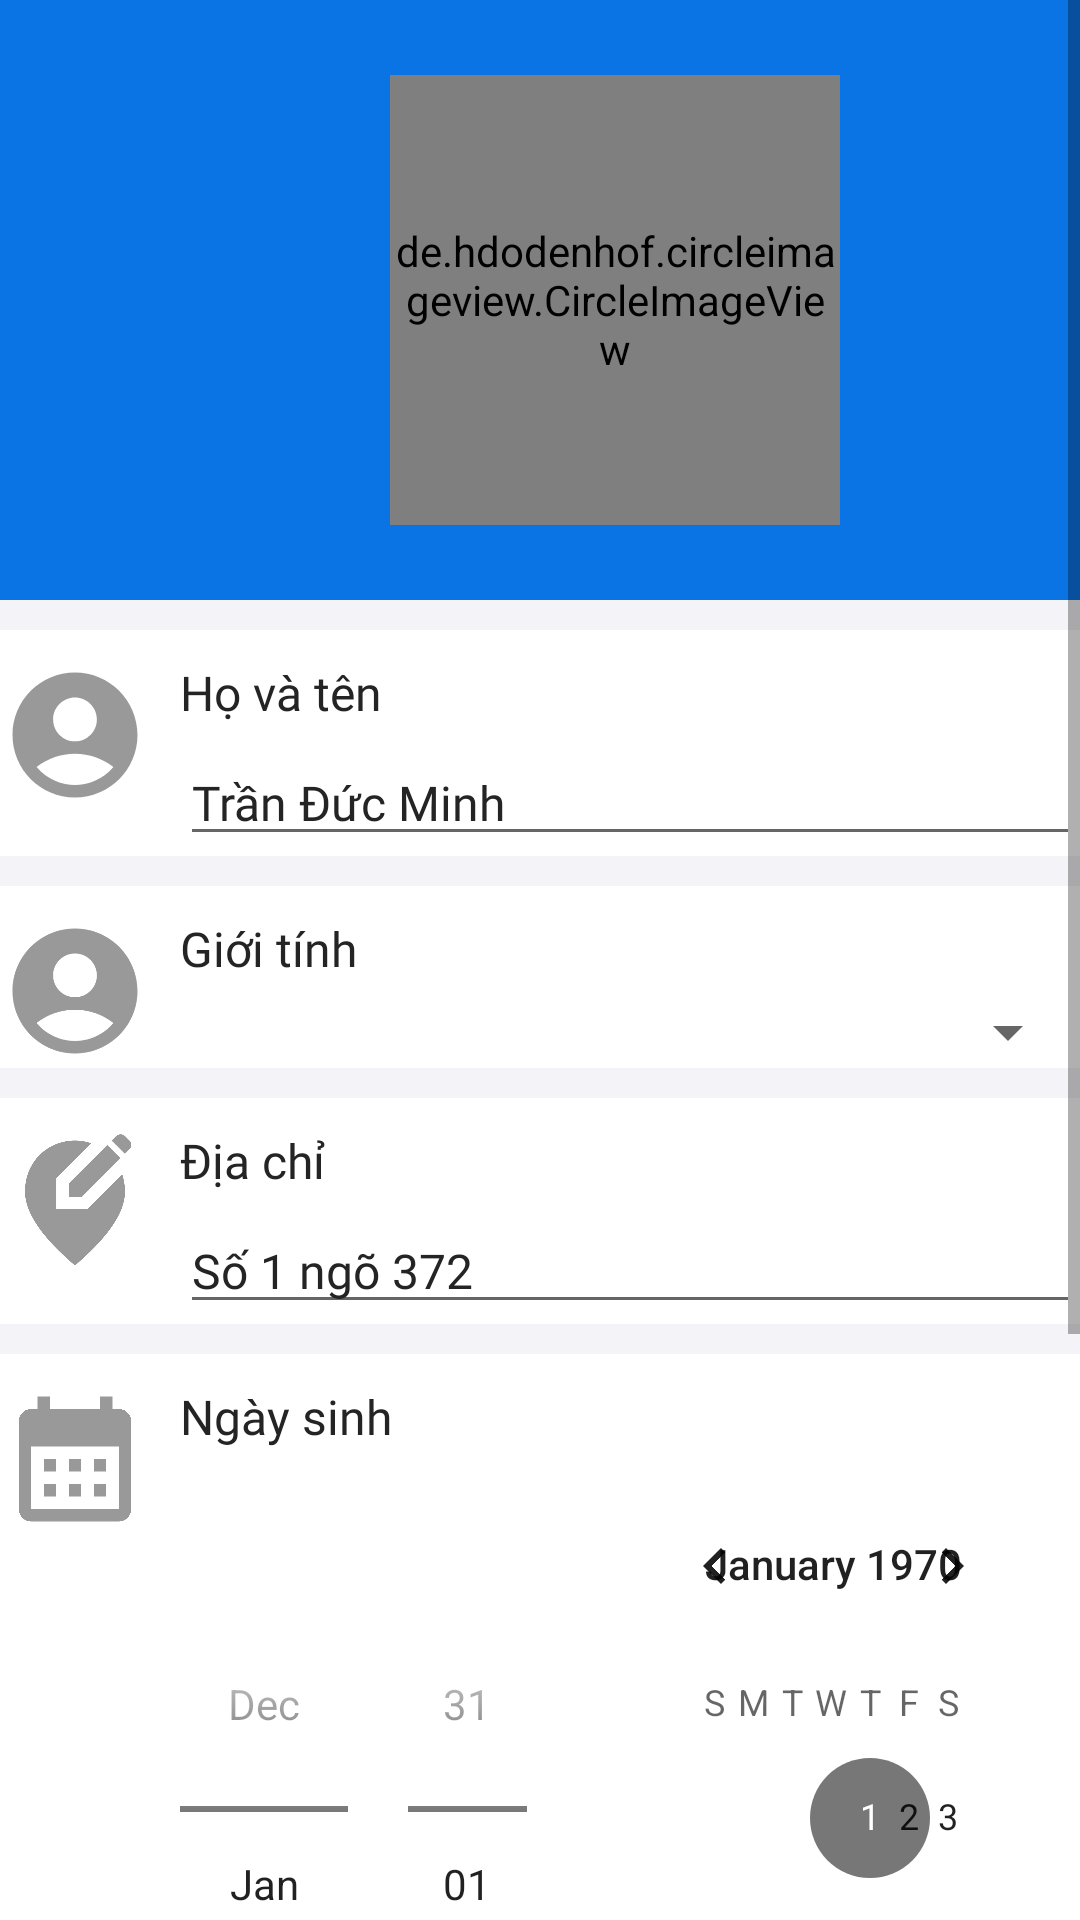

Icon click points for this 1080px x 1920px phone screenshot, format (x=x, y=y):
calender month: (x=75, y=1459)
edit location: (x=78, y=1199)
user account: (x=75, y=735), (x=75, y=991)
